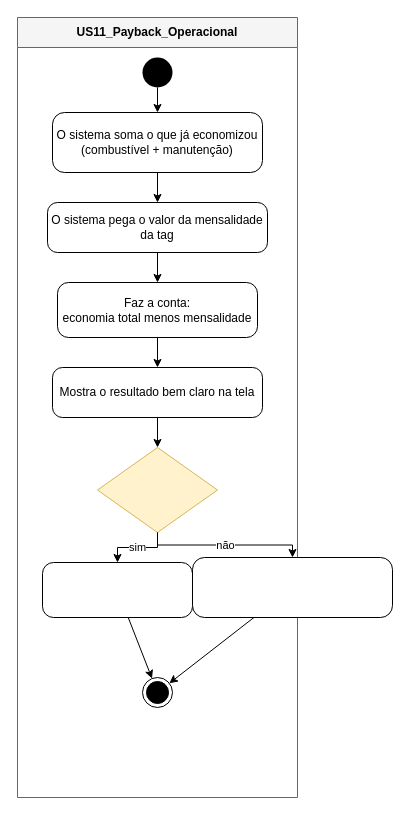
Some shapes in this 410 by 815 pixel diagram are drawn without their labels. The shapes that lost their labels are listed below. From the top down, each one's centre as x and y in pixels, then its label:
point (157, 489): A economia já passou da mensalidade?
point (117, 590): Mostra em destaque: "Tag Paga"
point (292, 587): Mostra se ainda falta economizar ou se está no zero
